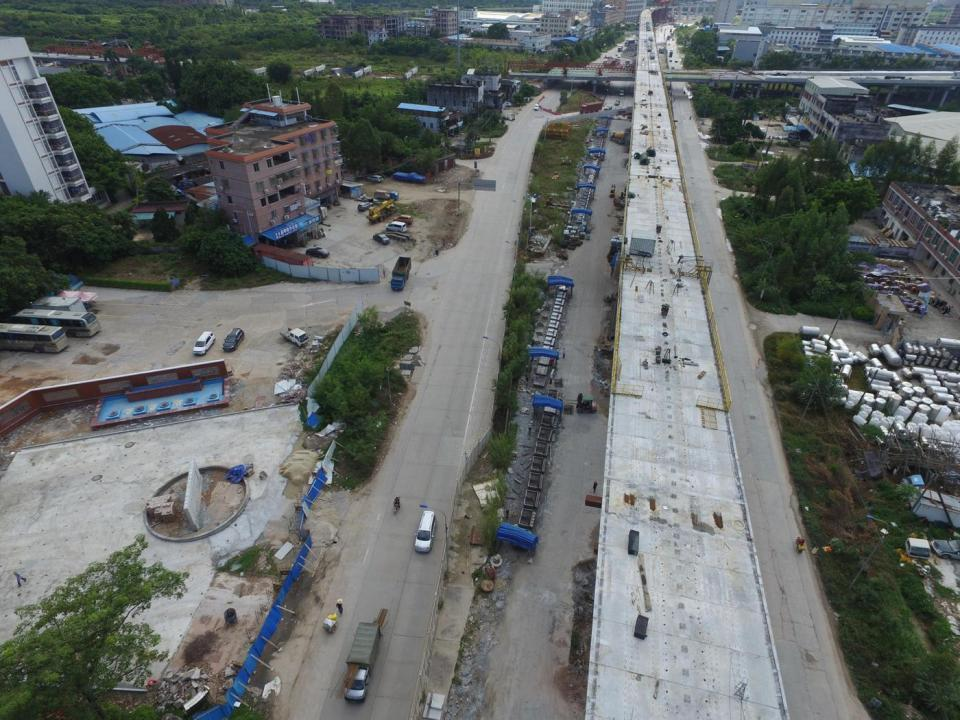bus: (12, 308, 100, 335), (0, 323, 68, 352)
car: (413, 511, 437, 551), (413, 510, 436, 551), (932, 538, 960, 562), (194, 332, 215, 356), (224, 328, 244, 351), (306, 247, 330, 258), (372, 233, 389, 245), (394, 215, 412, 224), (357, 202, 372, 211), (366, 174, 382, 182), (787, 133, 800, 139), (503, 102, 510, 107), (617, 55, 621, 58), (615, 53, 618, 55)
truck: (343, 622, 382, 699), (27, 294, 87, 320), (390, 256, 411, 293), (280, 325, 308, 345), (393, 172, 424, 183), (579, 101, 603, 114), (374, 188, 396, 201), (624, 40, 635, 47), (614, 99, 620, 106), (674, 22, 680, 27), (618, 45, 622, 52)
van: (386, 221, 405, 233), (534, 103, 539, 110), (619, 90, 624, 96)
